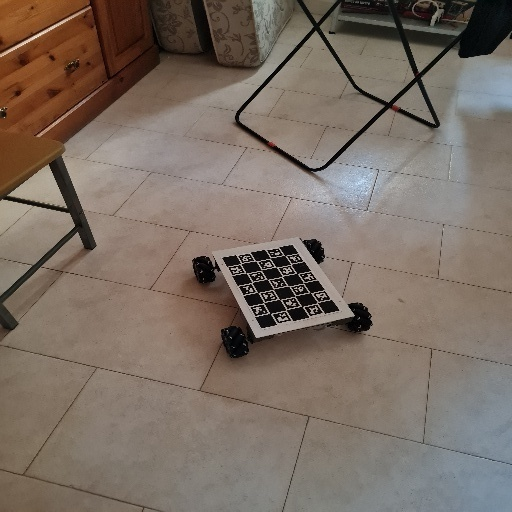Omniwheel: (192, 235, 374, 360)
